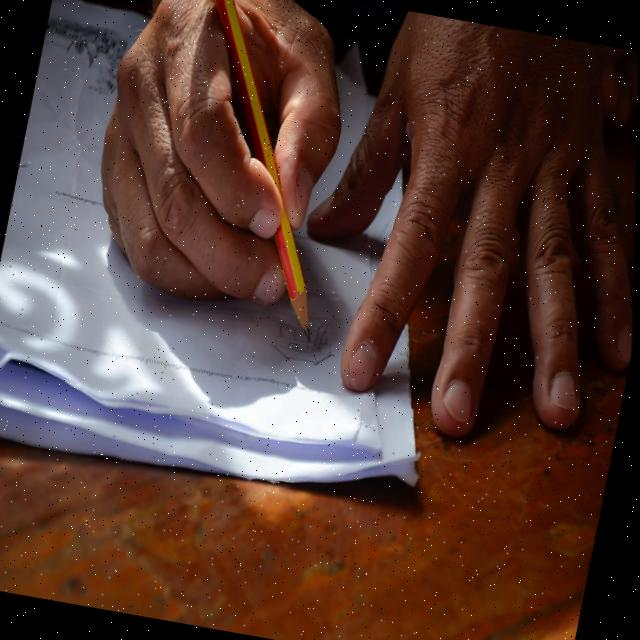pencil: (214, 0, 317, 352)
